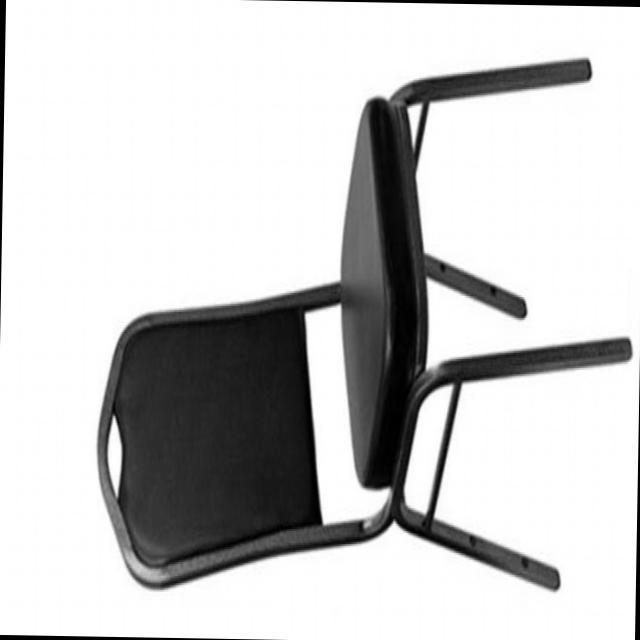chair: (92, 43, 640, 603)
